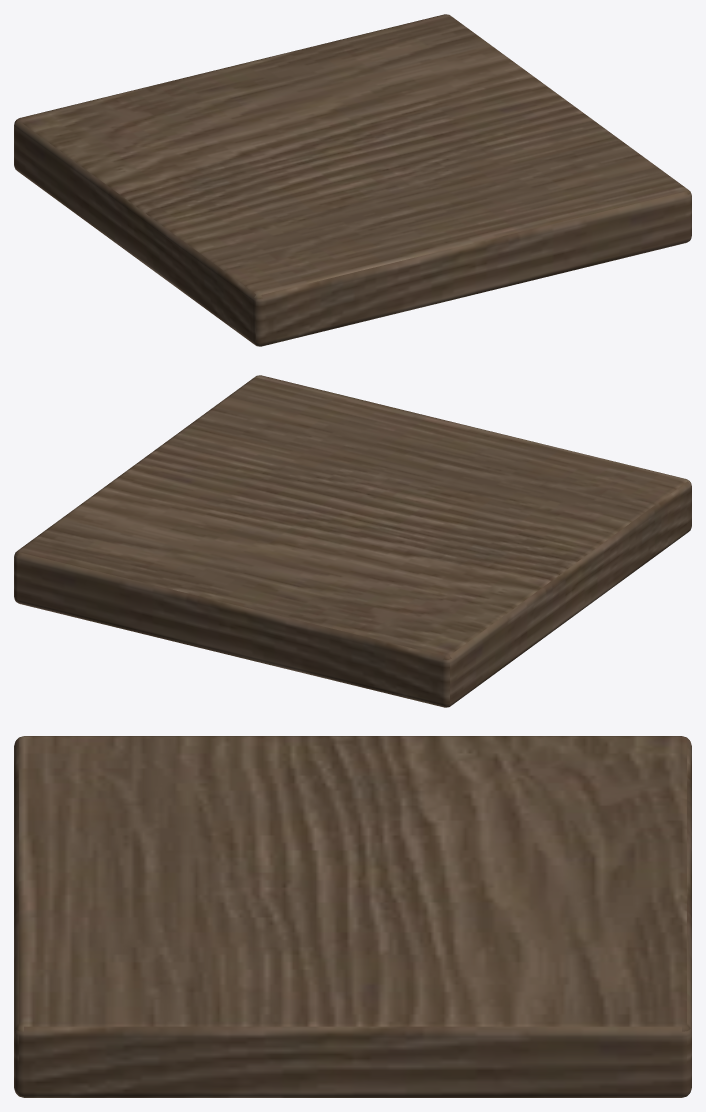
File: bench.glb
The picture shows the model from 3 angles, top to bottom: view 1: azimuth 30°, elevation 25°; view 2: azimuth 150°, elevation 25°; view 3: azimuth 270°, elevation 25°; orthographic projection. The views are drawn at different scales.
Visible parts, largest first — view 1: desk; view 2: desk; view 3: desk.
Boxes of the visible parts, x1,y1,x2,y2 form: desk: [14, 14, 691, 346]; desk: [14, 375, 691, 707]; desk: [14, 736, 691, 1097].
Size of the model in its own units: 155 by 18 by 150.
1 material, 1 textured.
